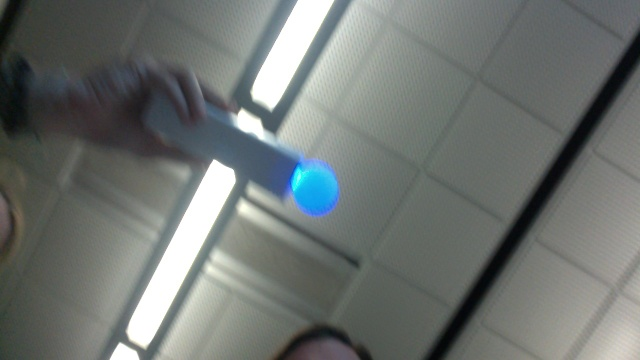wand: (293, 164, 340, 217)
